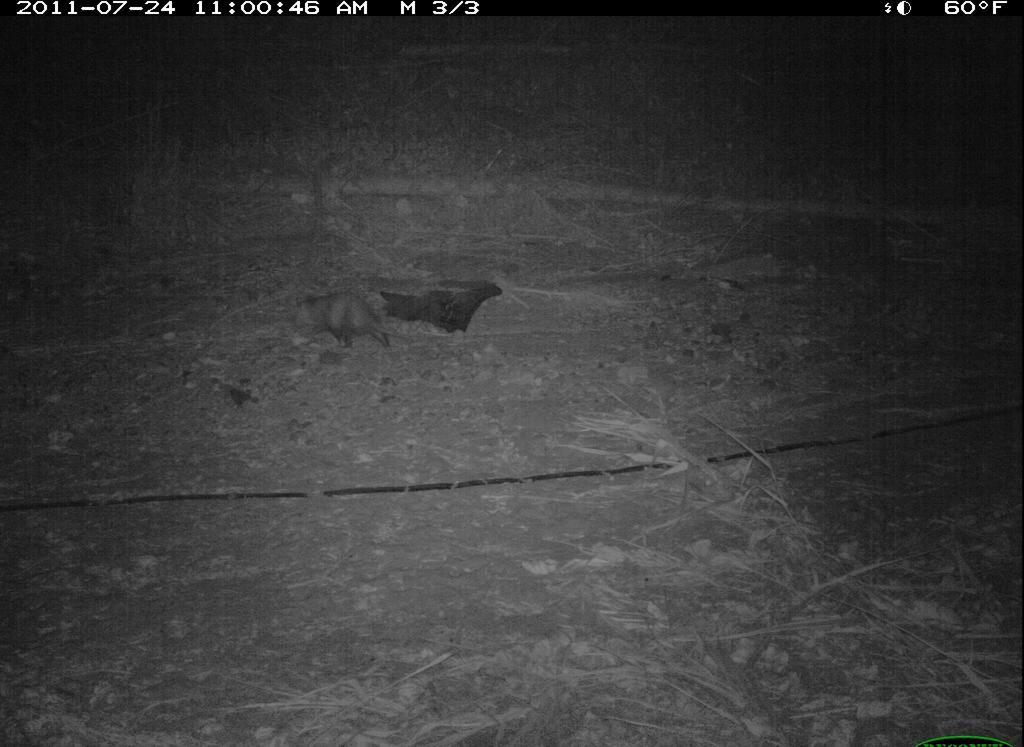opossum: (291, 278, 399, 356)
